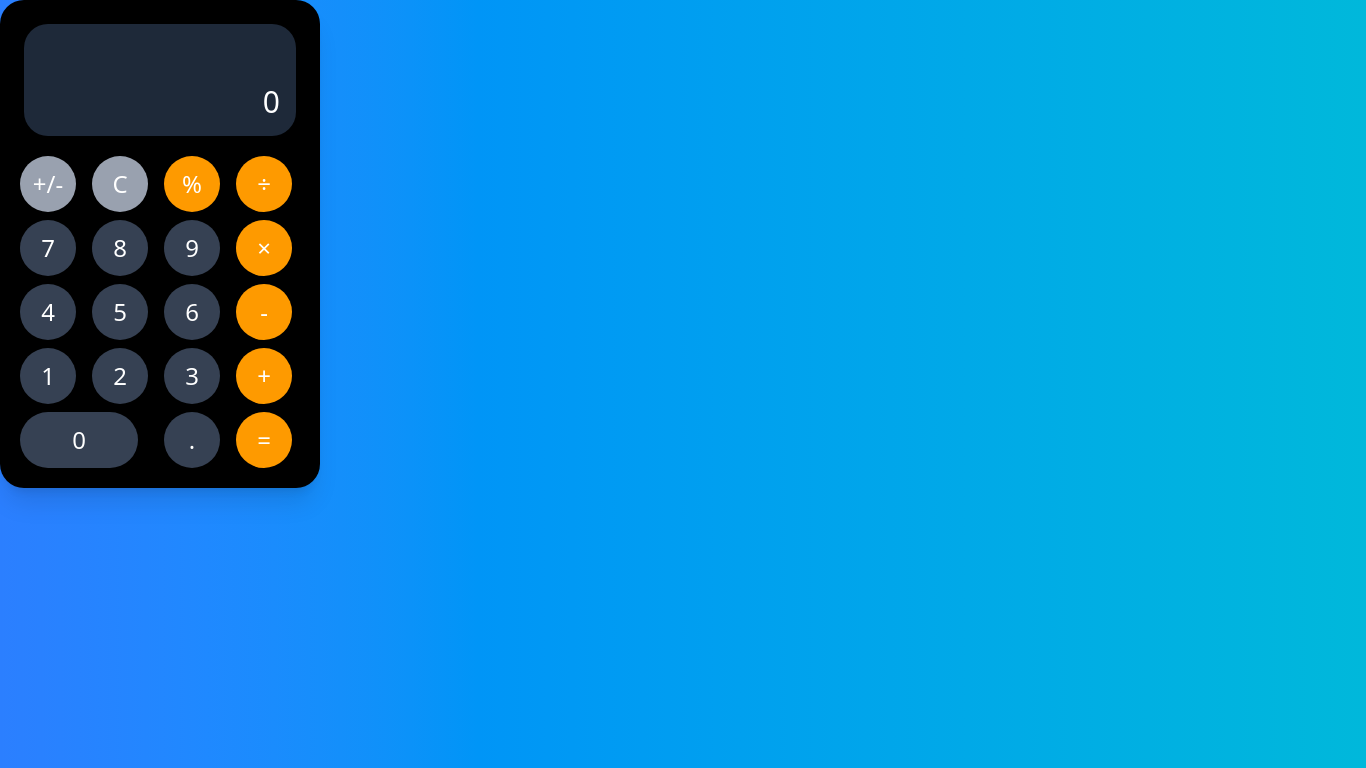
Test: Calculator Edge Cases › shows ERROR for negative results
What coordinates should you click on to do the following:
click the button "5"
I would click on:
 (120, 312)
Its box is [92,284,148,340].
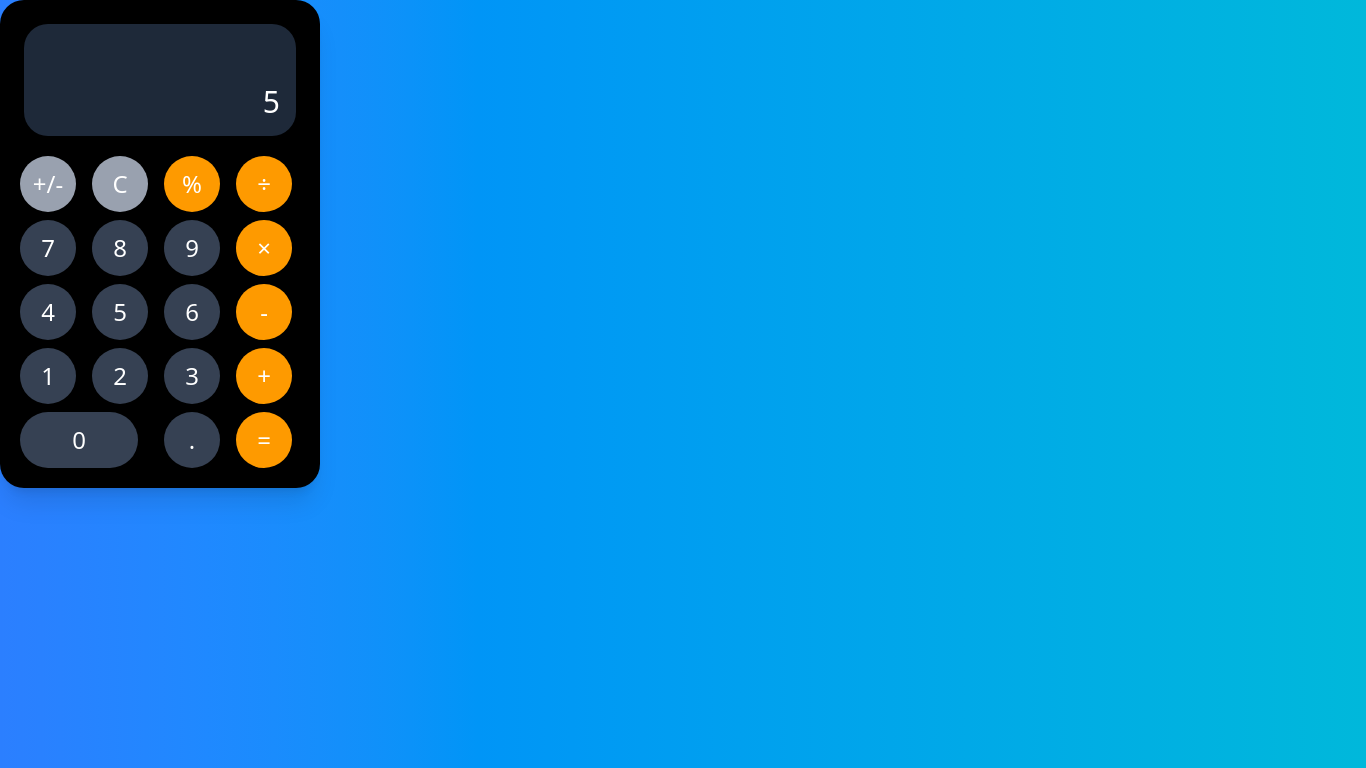
What coordinates should you click on to do the following:
click the button "-"
I would click on:
 (264, 312)
Its box is [236,284,292,340].
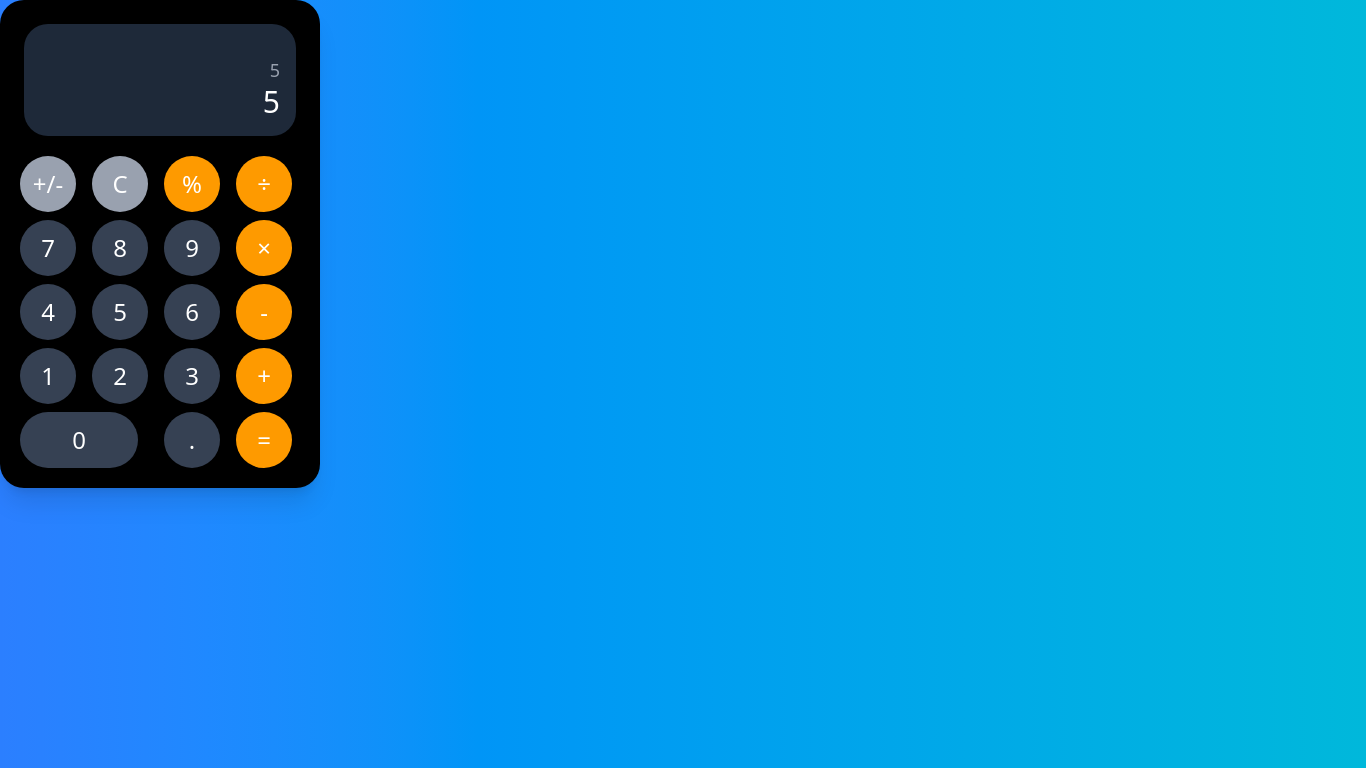
What coordinates should you click on to do the following:
click the button "1"
I would click on:
 (48, 376)
Its box is [20,348,76,404].
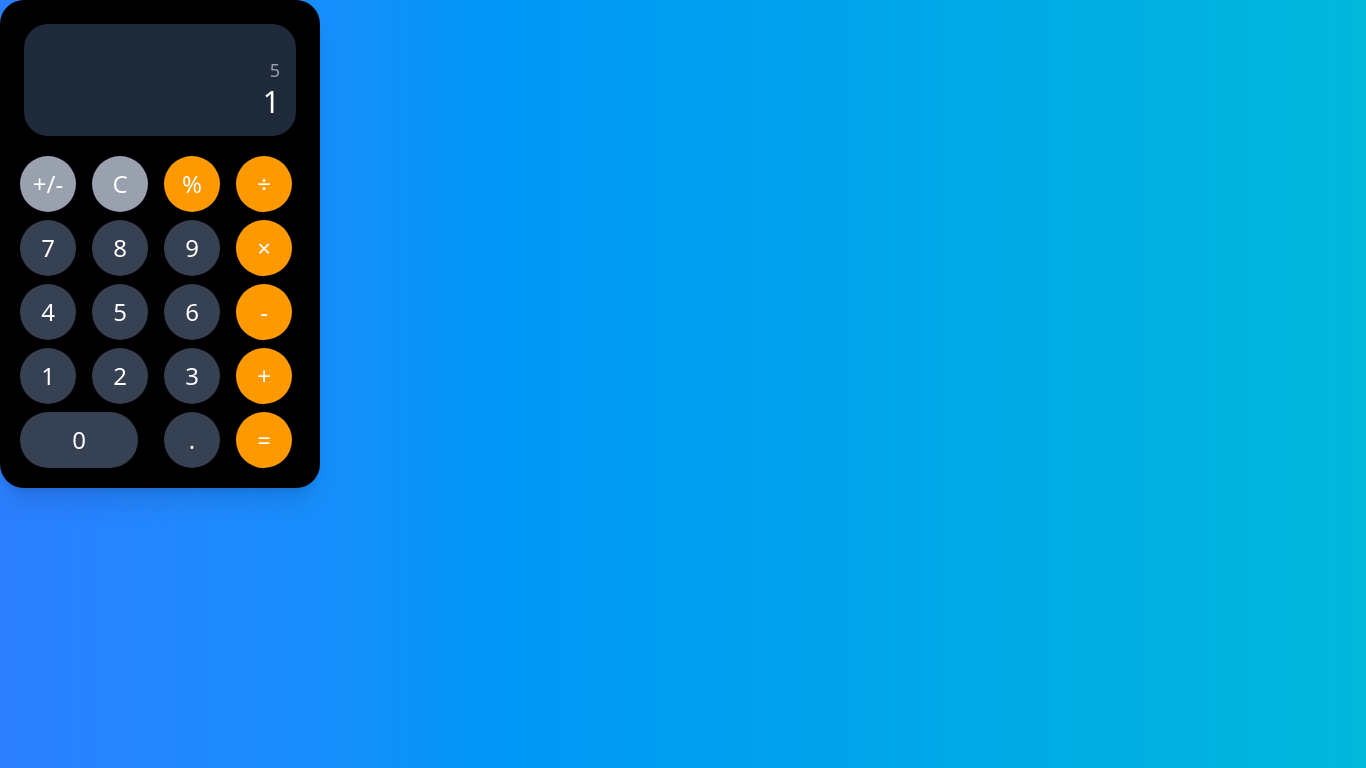
What coordinates should you click on to do the following:
click the button "0"
I would click on:
 (79, 440)
Its box is [20,412,138,468].
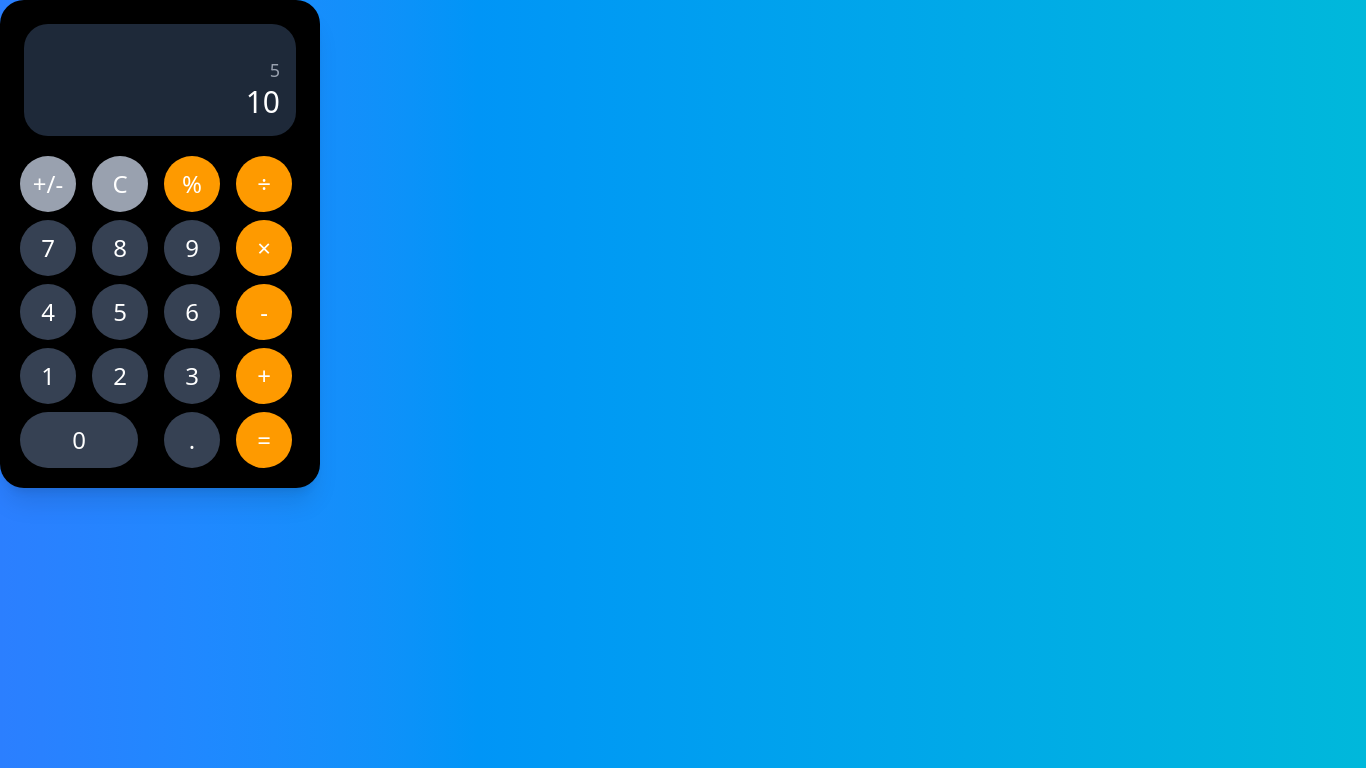
What coordinates should you click on to do the following:
click the button "="
I would click on:
 (264, 440)
Its box is [236,412,292,468].
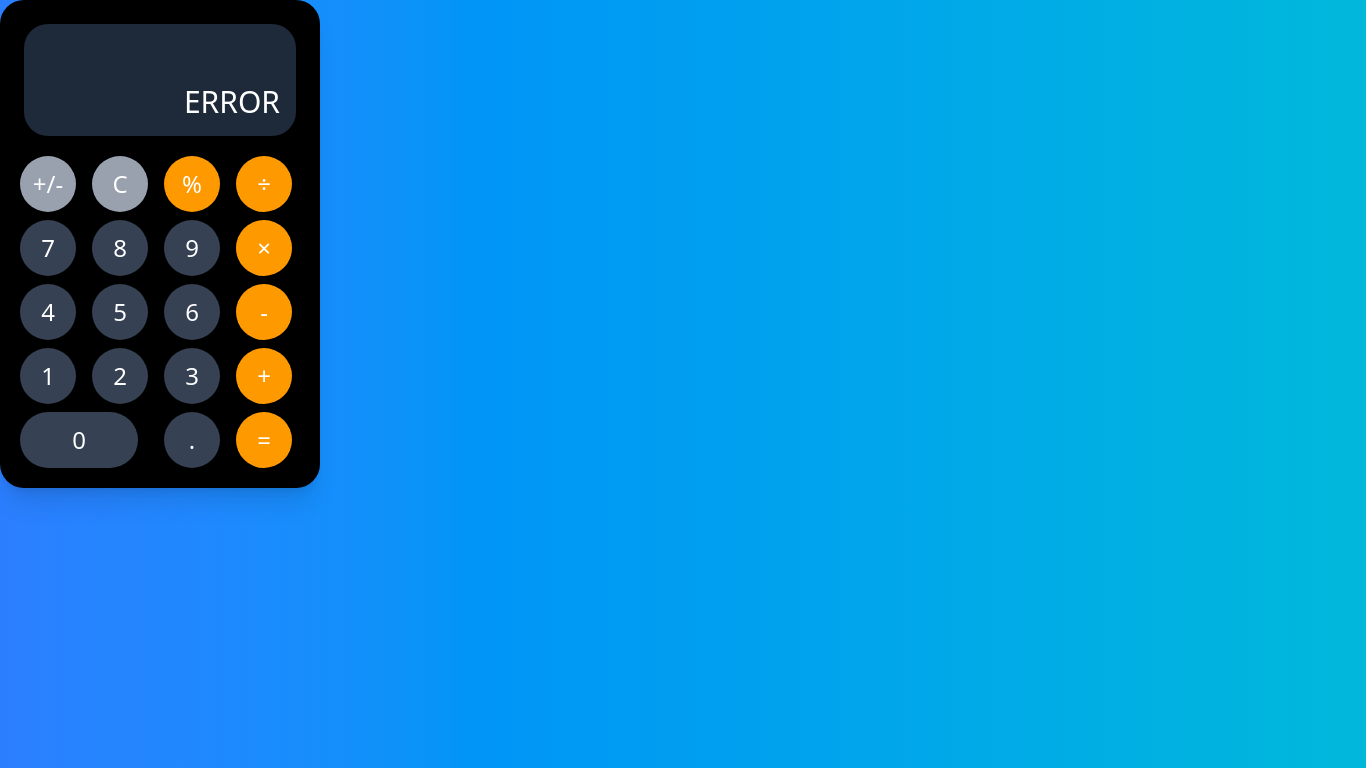
Expected: the text "ERROR" is shown, [184,84,280,120]
